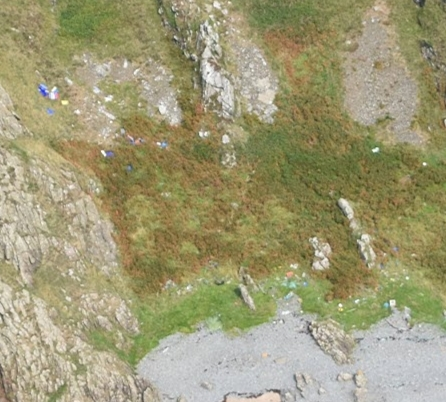scattered_barrel: (24, 65, 179, 173), (263, 240, 419, 317), (364, 136, 436, 178)
